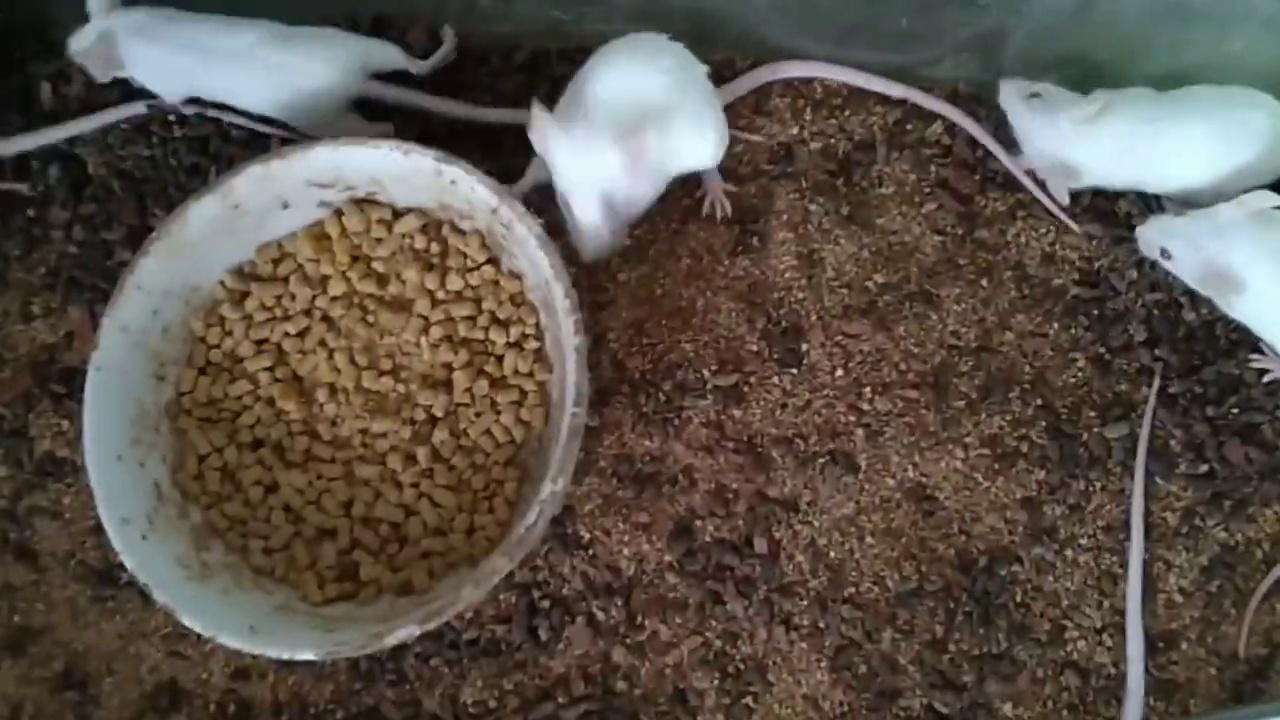rat: (501, 31, 1083, 263), (69, 0, 458, 136), (999, 77, 1280, 206), (1133, 191, 1280, 383)
